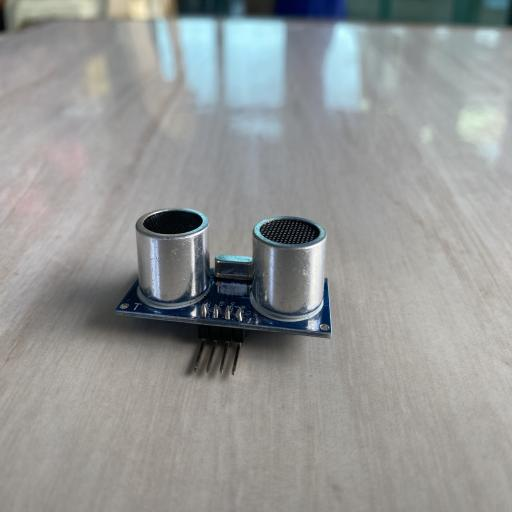Ultrasonic Sensor: (115, 207, 332, 376)
